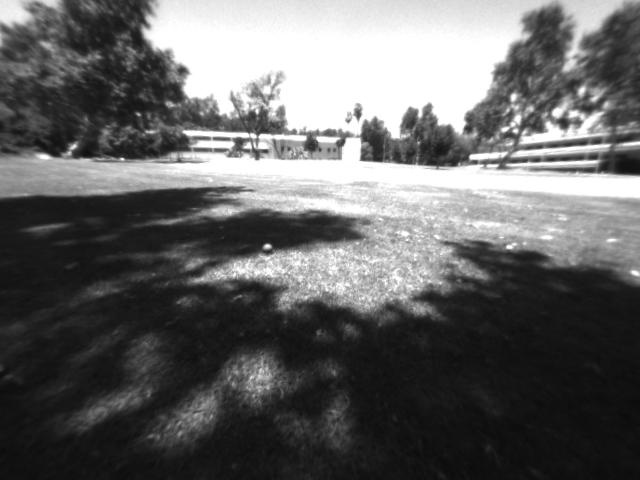dogtoy: (260, 239, 276, 254)
